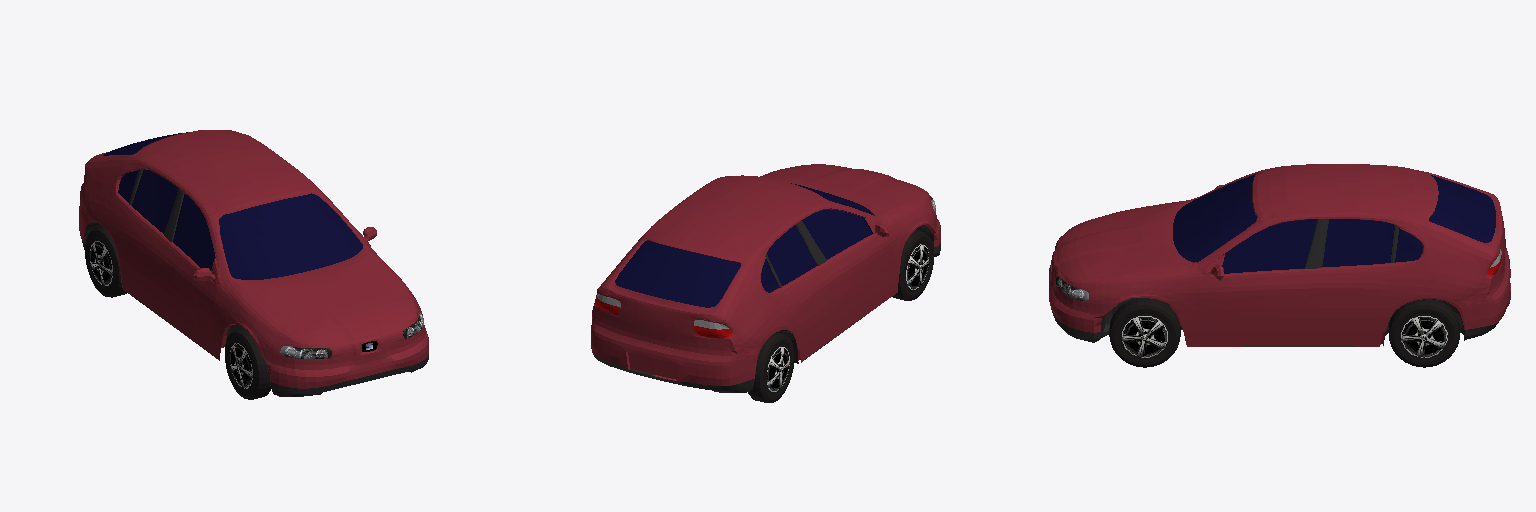
The picture shows the model from 3 angles: view 1: azimuth 30°, elevation 25°; view 2: azimuth 150°, elevation 25°; view 3: azimuth 270°, elevation 25°; orthographic projection.
Visible parts, largest first — view 1: car_Plane; view 2: car_Plane; view 3: car_Plane.
Part boxes in pixels (bbox=[...]): car_Plane: bbox=[79, 130, 428, 399]; car_Plane: bbox=[591, 164, 940, 402]; car_Plane: bbox=[1049, 164, 1510, 367].
Bounding box in the file's own units: 0.4587 × 0.3481 × 1.
Materials: 10 (2 with a texture image).